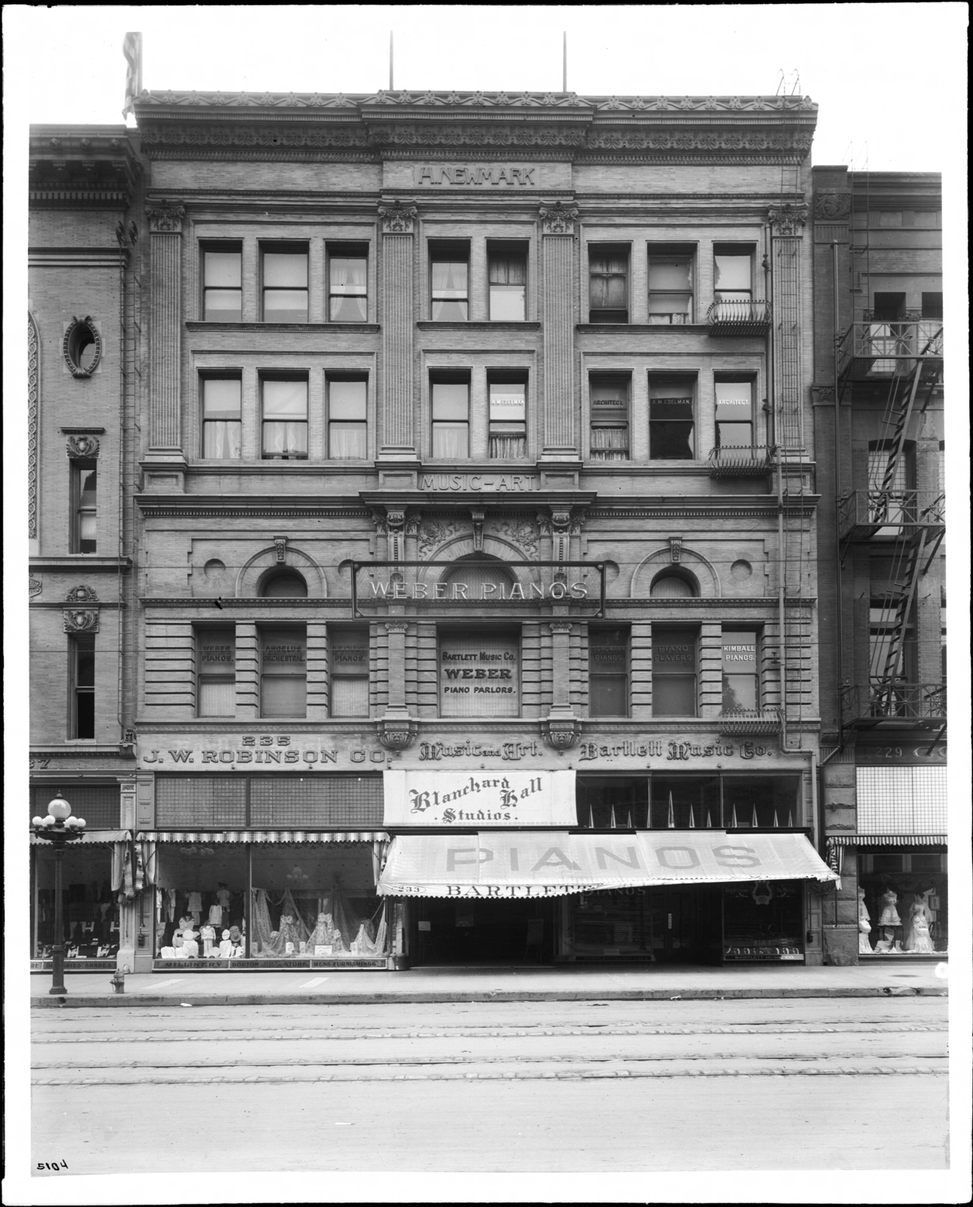fachada: (128, 83, 852, 958), (19, 124, 170, 981), (833, 177, 943, 943)
poste: (41, 766, 91, 1007)
